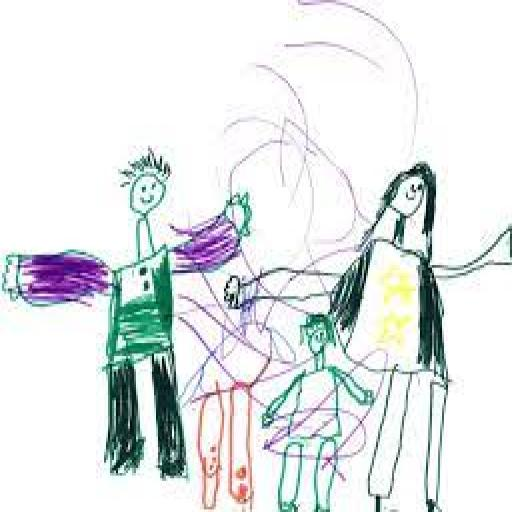person: (8, 137, 253, 481), (322, 148, 512, 510), (258, 309, 374, 512)
